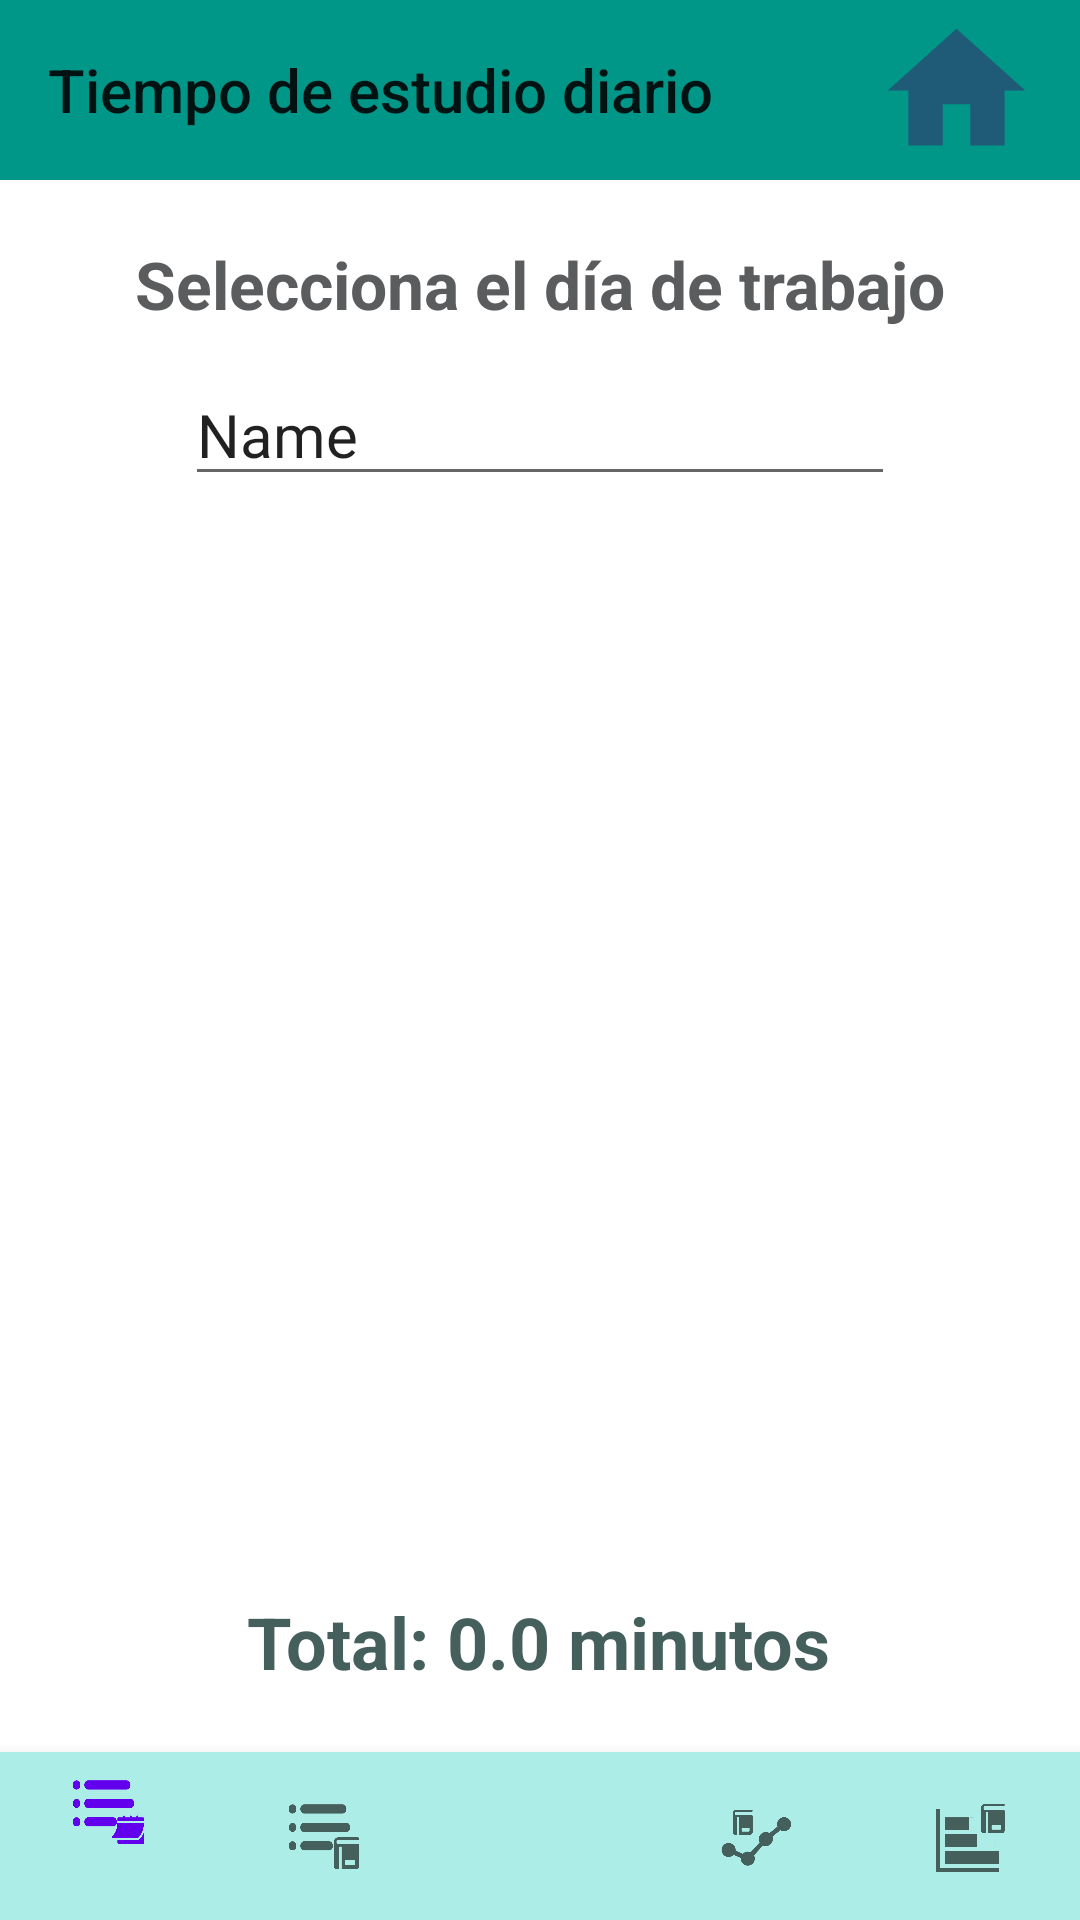

Icons on this 1080px×1920px Android screen, each with the point to tap as (x=x, y=y):
home: (x=956, y=87)
